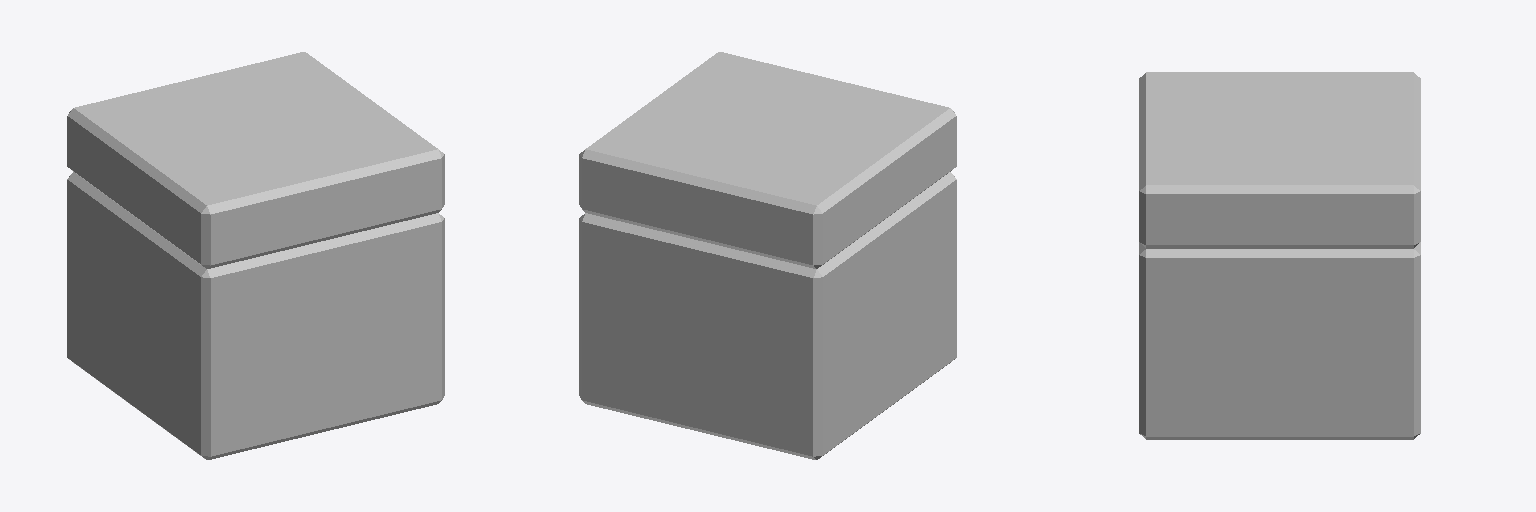
Rendered from platform_2x2x2_green.obj.
The picture shows the model from 3 angles: view 1: azimuth 30°, elevation 25°; view 2: azimuth 150°, elevation 25°; view 3: azimuth 270°, elevation 25°; orthographic projection.
Parts seen in each view (by area): view 1: platform_2x2x2_green; view 2: platform_2x2x2_green; view 3: platform_2x2x2_green.
Boxes of the visible parts, x1=… form: platform_2x2x2_green: x1=67, y1=52, x2=444, y2=459; platform_2x2x2_green: x1=579, y1=52, x2=956, y2=459; platform_2x2x2_green: x1=1139, y1=72, x2=1420, y2=439.
Size of the model in its own units: 2 by 2 by 2.